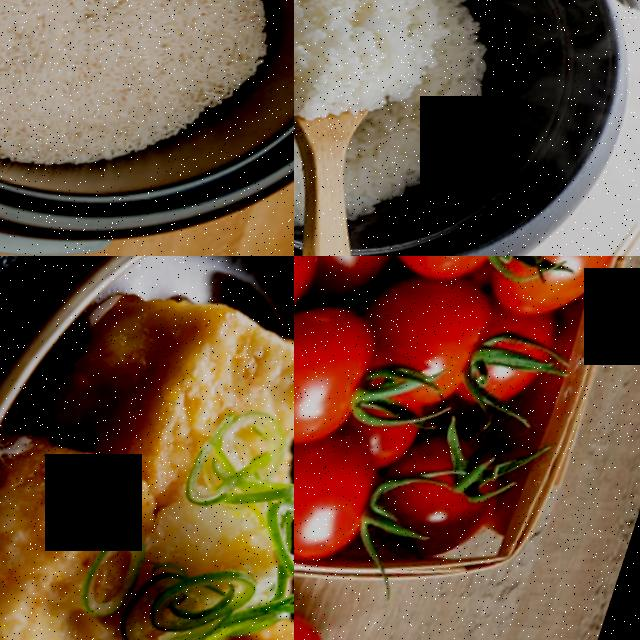tomato: (294, 291, 400, 471), (294, 424, 405, 591), (367, 256, 547, 310)
white rice: (0, 0, 294, 232), (294, 0, 459, 142), (352, 55, 490, 207)
